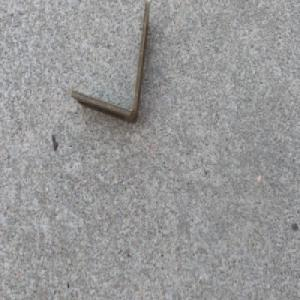MetalPart: (69, 0, 151, 125)
